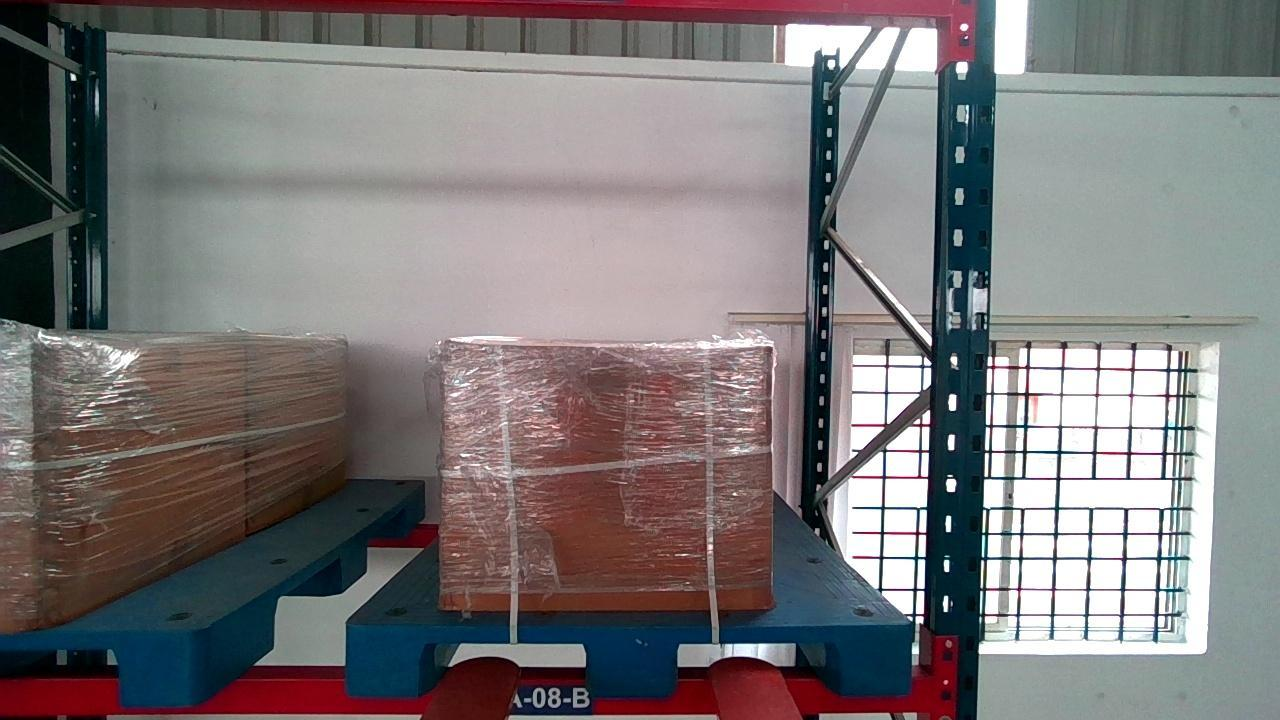h_rack: (0, 677, 934, 716)
small_pallet: (343, 625, 910, 695)
